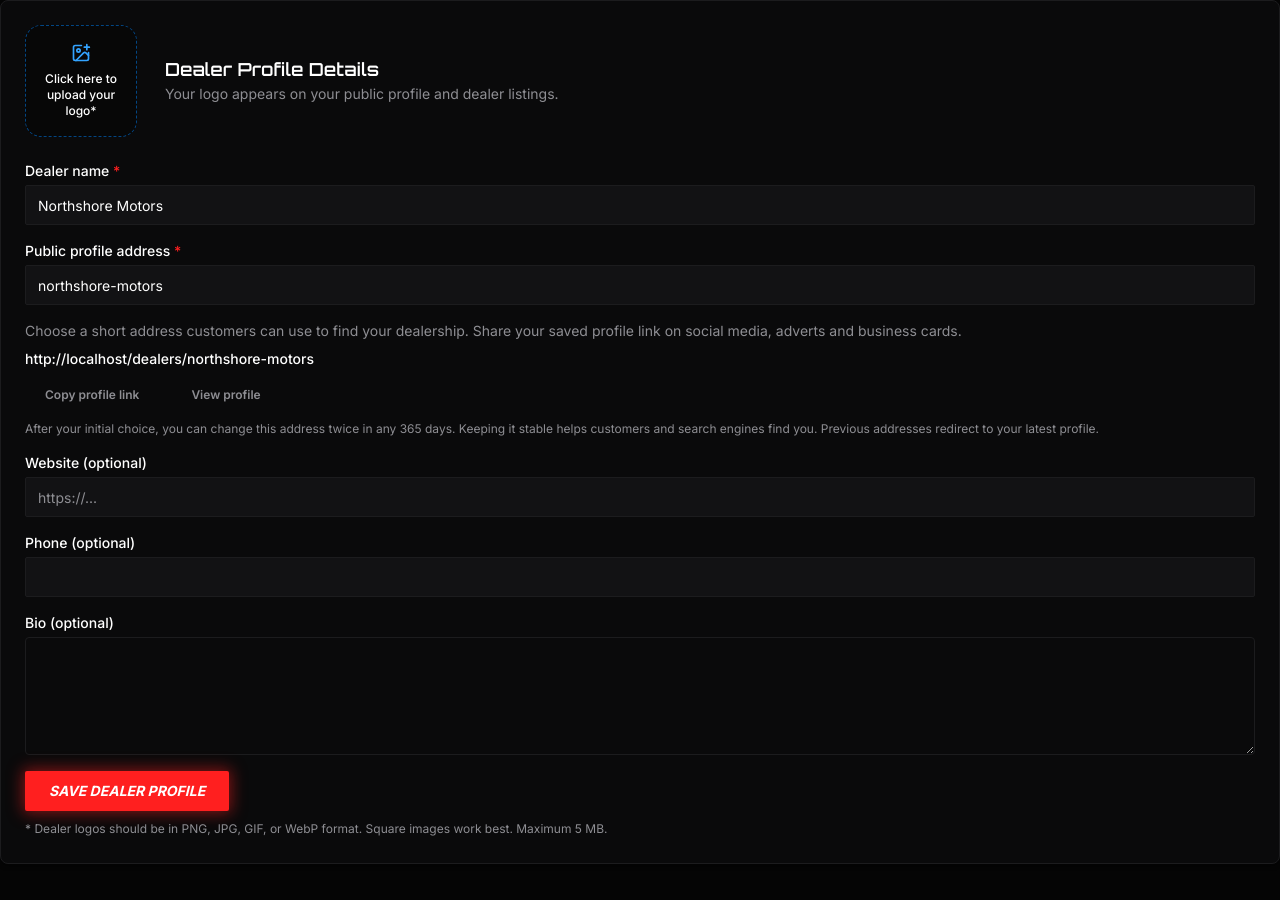
it: DealerProfileForm › recovers from a thrown save error without losing the edited address
Replace the text in the field labelled "Public profile address" with "northshore-cars": (640, 285) 25,265 -> 1255,305
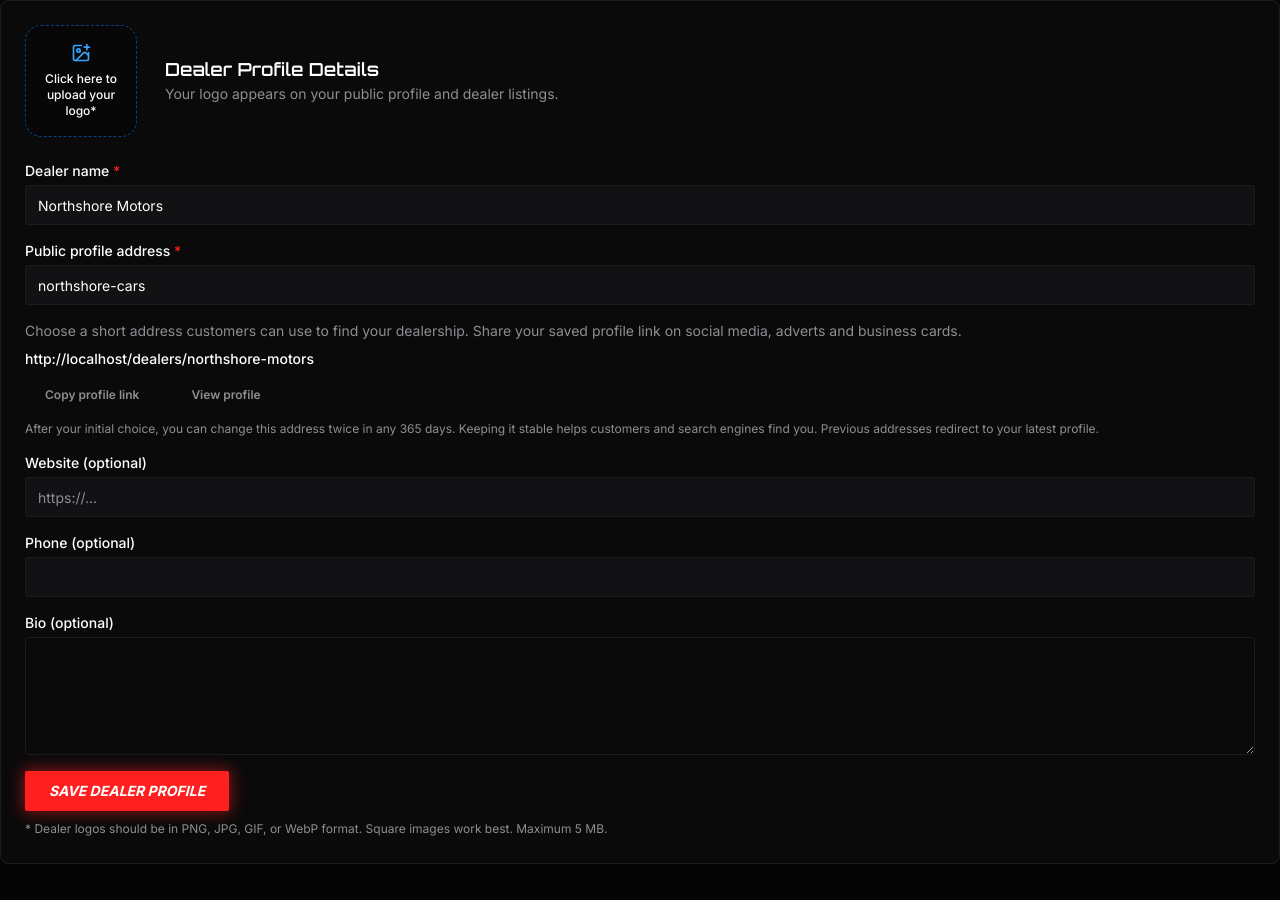
Click the button "Save Dealer Profile": (127, 791) 25,771 -> 229,811
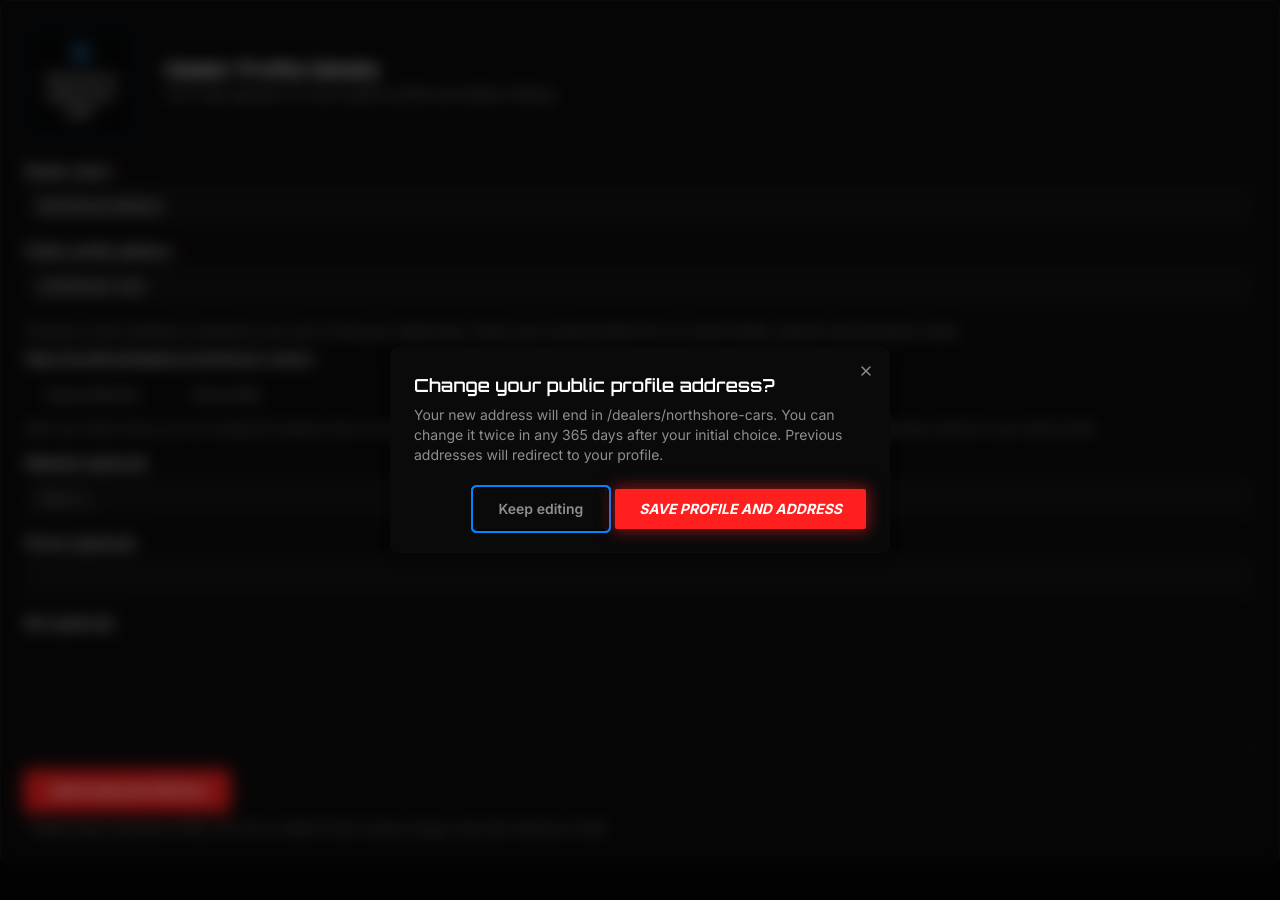
Click the button "Save profile and address": (741, 509) 615,489 -> 866,529
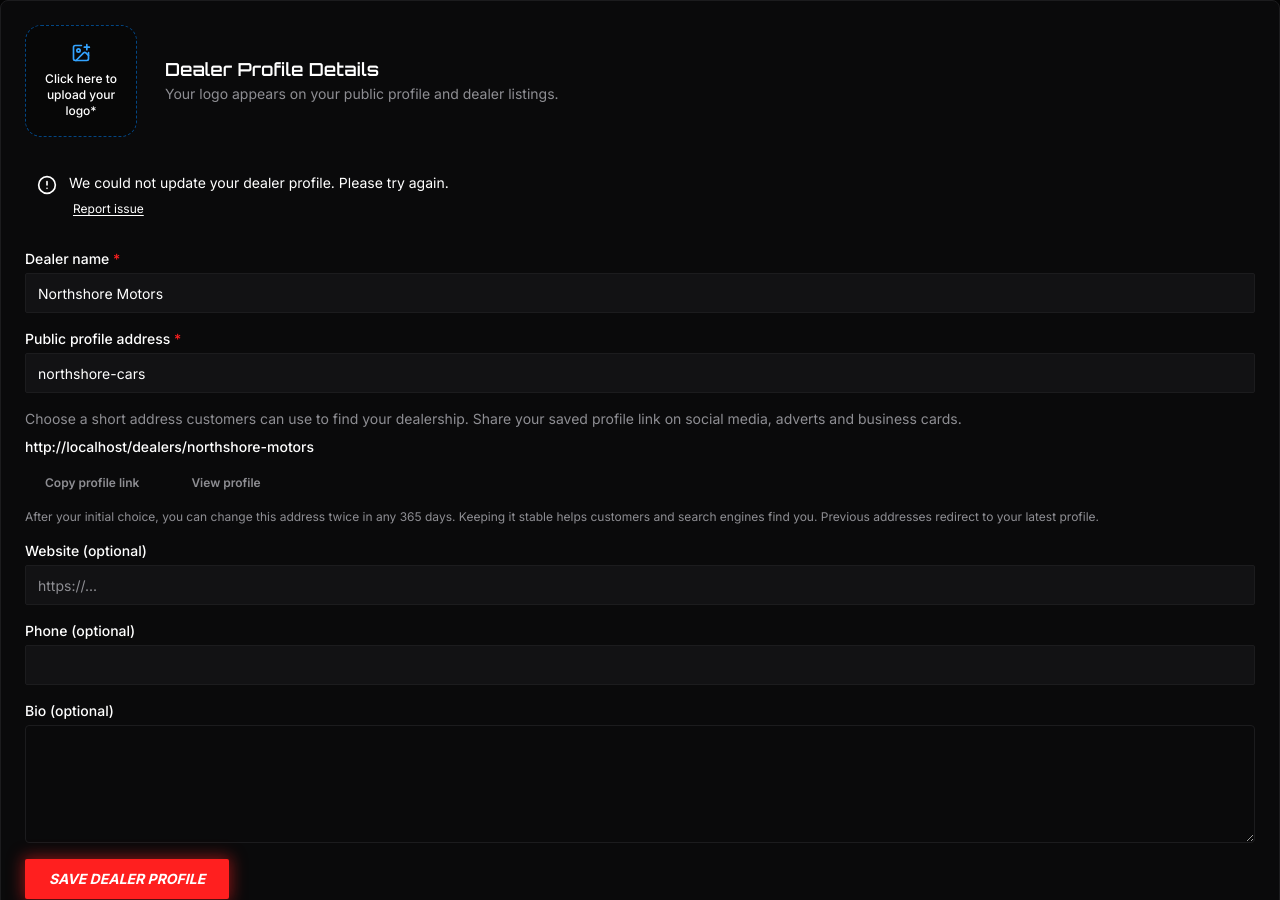
Expected: the button "Save Dealer Profile" is enabled, 25,859 -> 229,899
Expected: the text "We could not update your dealer profile. Please try again." is shown, 69,174 -> 449,191
